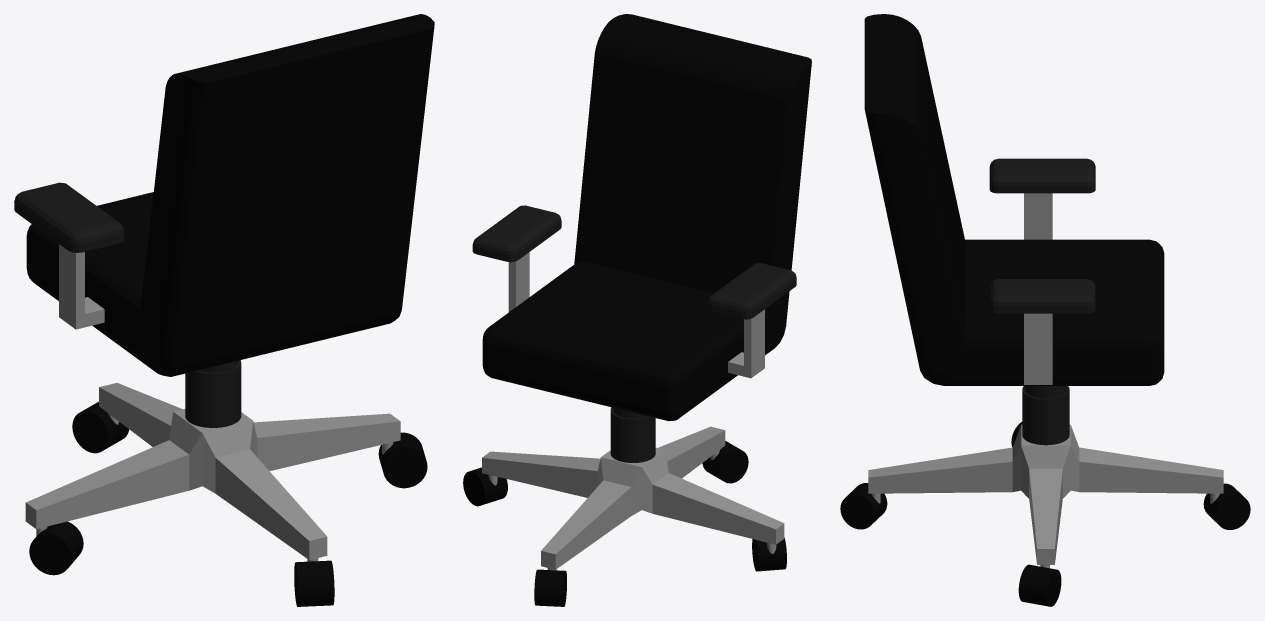
Rendered from Office Chair.fbx.
3 renders of one model, left to right at view 1: azimuth 30°, elevation 25°; view 2: azimuth 150°, elevation 25°; view 3: azimuth 270°, elevation 25°, orthographic. The views are drawn at different scales.
Parts seen in each view (by area): view 1: Cube; view 2: Cube; view 3: Cube.
Boxes of the visible parts, bbox=[...] form: Cube: bbox=[14, 14, 434, 606]; Cube: bbox=[463, 14, 811, 606]; Cube: bbox=[840, 14, 1250, 606].
Size of the model in its own units: 81.87 by 108 by 86.54.
